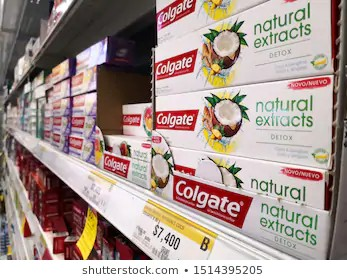colgate-medium: (150, 144, 331, 259), (152, 95, 333, 168), (152, 17, 338, 86), (100, 132, 148, 187)
